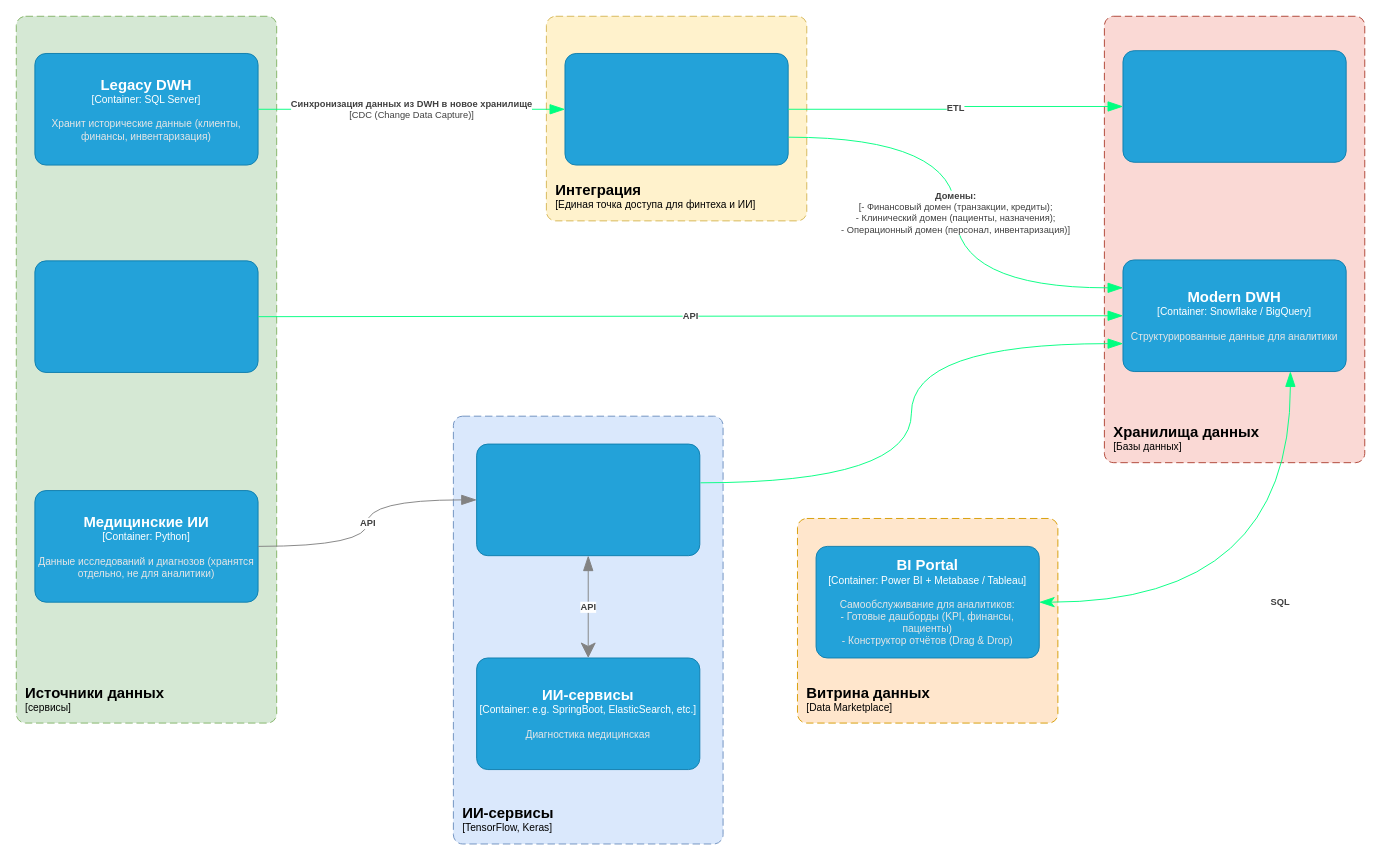
The diagram is 1381 pixels wide and 860 high, and some of its shapes have lost their labels. Here are the shapes that lost their labels. From the top down, the centre of each, then its label:
[676,109]: Data Pipeline [Container: Kafka/Airflow] Замена старой шины (Apache Camel)
[1234,106]: Data Lake [Container: S3 / Azure Data Lake] Сырые данные из всех источников
[146,316]: Финтех-сервисы [Container: Golang/Java] Транзакции, кредиты, счета
[588,499]: Feature Store [Container: Python] Данные для обучения моделей
